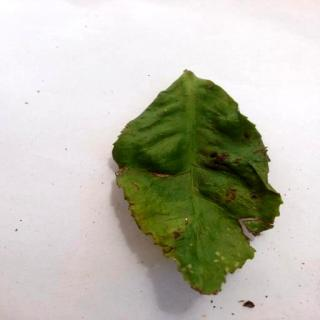Algal Leaf: (114, 70, 284, 298)
